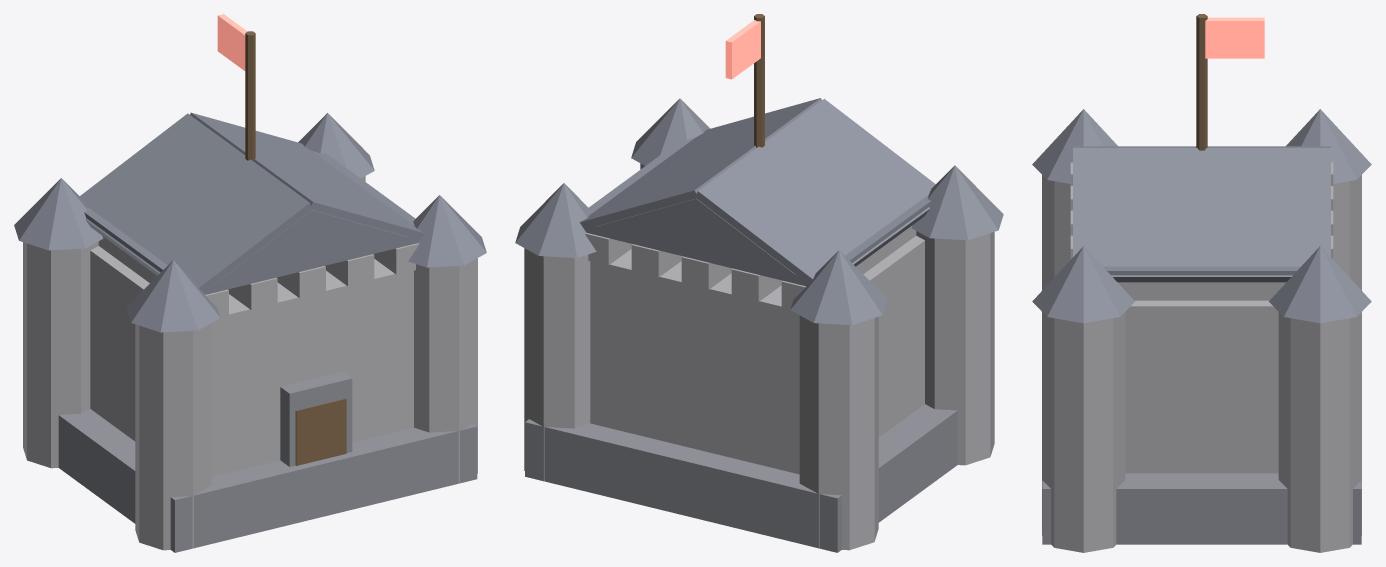
File: castle.glb
3 renders of one model, left to right at view 1: azimuth 30°, elevation 25°; view 2: azimuth 150°, elevation 25°; view 3: azimuth 270°, elevation 25°, orthographic. The views are drawn at different scales.
Parts seen in each view (by area): view 1: KeepBase; view 2: KeepBase; view 3: KeepBase.
Part boxes in pixels (<box>): KeepBase: <box>14,14,486,552</box>; KeepBase: <box>515,14,1003,552</box>; KeepBase: <box>1032,14,1371,552</box>.
Size of the model in its own units: 3.48 by 4.05 by 2.77.
